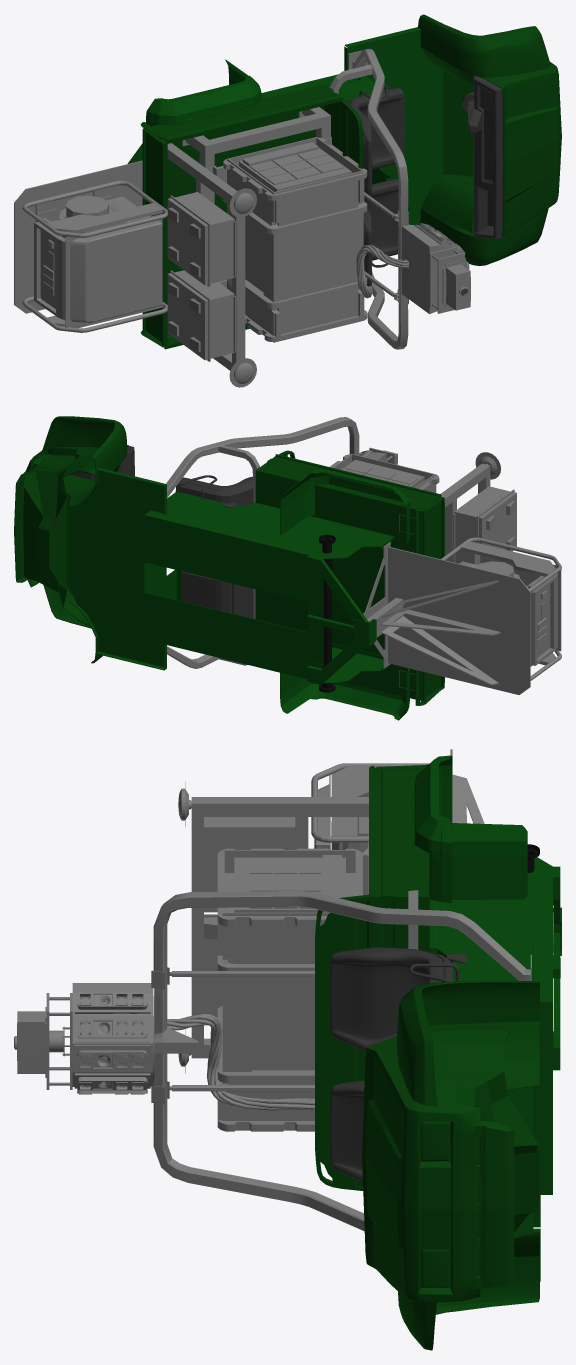
File: gator_chassis.obj
The picture shows the model from 3 angles, top to bottom: view 1: azimuth 30°, elevation 25°; view 2: azimuth 150°, elevation 25°; view 3: azimuth 270°, elevation 25°; orthographic projection. The views are drawn at different scales.
Parts seen in each view (by area): view 1: Gator_Body_Chrono; view 2: Gator_Body_Chrono; view 3: Gator_Body_Chrono.
Part boxes in pixels (<box>): Gator_Body_Chrono: <box>14,14,561,387</box>; Gator_Body_Chrono: <box>14,416,561,720</box>; Gator_Body_Chrono: <box>14,749,561,1350</box>.
Size of the model in its own units: 3.46 by 1.5 by 2.12.
